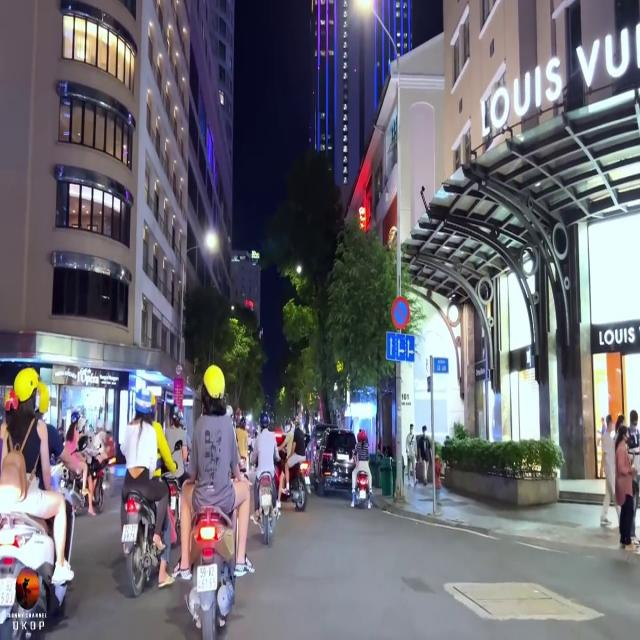bien_trang: (197, 565, 218, 591), (122, 524, 136, 540)
